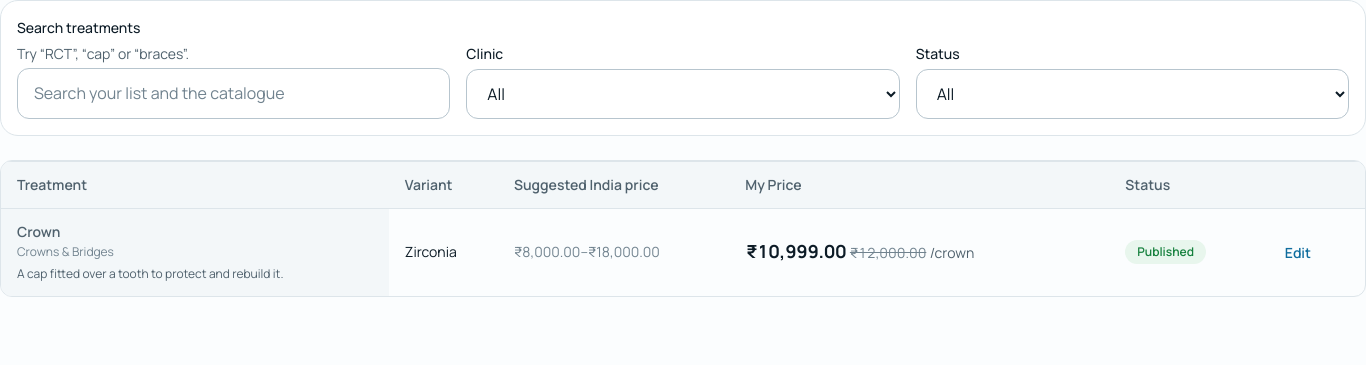
Test: search and filters › says so when a filter matches nothing, rather than showing an empty table
In the search field labelled "Search treatments": (234, 94) [17, 68, 450, 119], type "orthognathic"
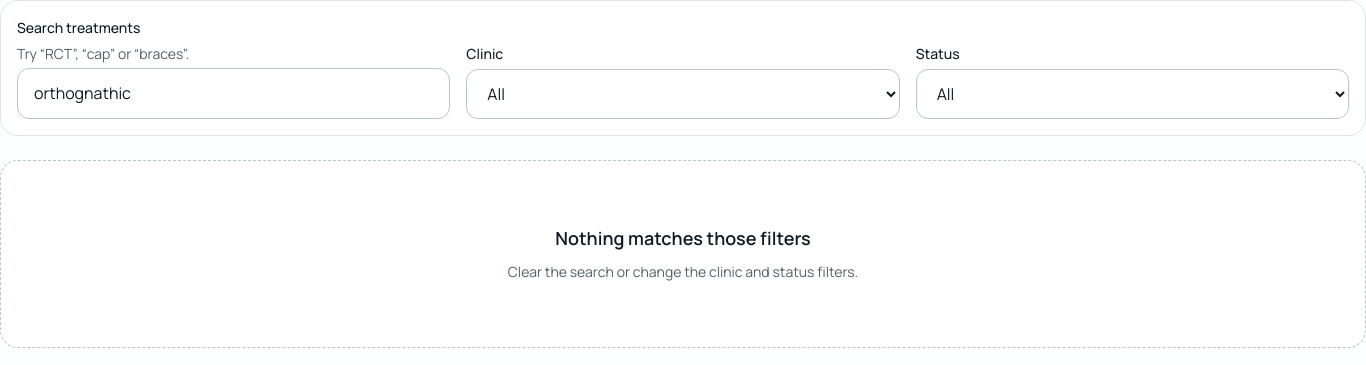
Check: the heading "Nothing matches those filters" is shown, box [555, 225, 811, 253]
